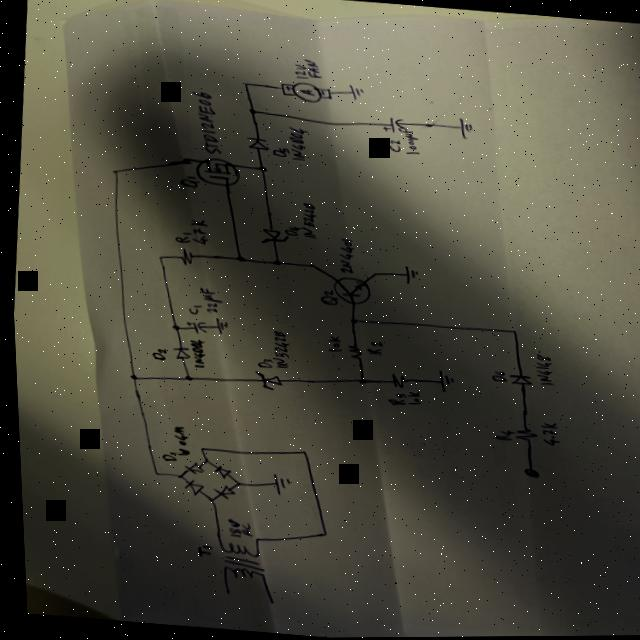capacitor: (379, 117, 412, 136), (183, 319, 205, 333)
diode: (246, 368, 281, 392), (255, 227, 287, 246), (241, 136, 270, 151), (177, 479, 200, 496), (206, 484, 230, 500), (168, 344, 189, 362), (501, 373, 530, 386), (207, 462, 228, 478), (177, 460, 200, 474)
ground: (430, 368, 452, 394), (266, 472, 288, 496), (454, 117, 474, 140), (397, 264, 418, 285), (345, 83, 366, 102), (211, 317, 225, 333)
junction: (303, 261, 316, 269), (344, 317, 356, 324), (231, 254, 243, 261), (267, 259, 279, 266), (312, 530, 324, 537), (107, 168, 119, 175), (254, 165, 265, 172), (166, 323, 177, 330), (152, 254, 163, 261), (366, 270, 377, 277), (124, 373, 134, 380), (179, 374, 189, 381), (246, 108, 256, 115), (352, 377, 362, 384), (293, 448, 303, 455), (229, 480, 239, 487), (196, 458, 206, 465), (201, 496, 211, 502), (239, 81, 248, 87), (506, 329, 514, 335), (193, 445, 201, 451), (247, 536, 255, 542), (170, 473, 178, 479), (147, 471, 156, 476)
resistor: (509, 427, 534, 442), (174, 247, 193, 266), (386, 372, 405, 389), (342, 343, 359, 359)
terminal: (516, 466, 535, 479), (259, 598, 271, 606), (217, 589, 225, 596)
text: (185, 89, 224, 156), (284, 125, 311, 161), (526, 353, 554, 387), (331, 236, 355, 275), (267, 329, 289, 370), (194, 285, 221, 315), (296, 202, 318, 238), (164, 424, 188, 456), (183, 337, 205, 369), (394, 130, 421, 155), (533, 421, 558, 447), (185, 218, 208, 244), (218, 517, 239, 537), (302, 58, 322, 78), (314, 288, 335, 306), (175, 174, 198, 189), (360, 340, 381, 356), (266, 145, 289, 159), (383, 137, 403, 153), (382, 391, 403, 406), (189, 543, 209, 558), (322, 335, 339, 352), (490, 428, 510, 442), (170, 230, 190, 244), (401, 390, 419, 405), (146, 346, 165, 360), (485, 369, 504, 383), (155, 450, 175, 463), (279, 225, 299, 237), (292, 64, 307, 79), (232, 521, 247, 536), (251, 357, 269, 369), (182, 303, 199, 315)
transformer: (210, 539, 261, 581)
transistor: (188, 153, 240, 187), (325, 274, 371, 307)
